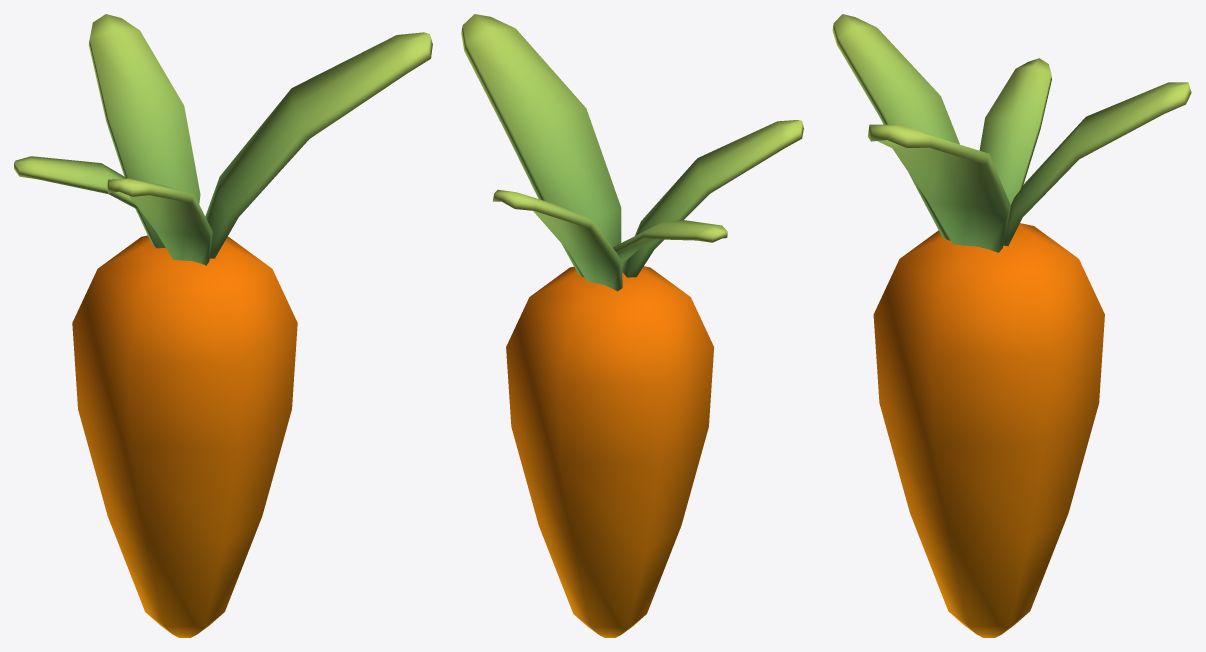
The model's file is carrot.fbx.
3 renders of one model, left to right at view 1: azimuth 30°, elevation 25°; view 2: azimuth 150°, elevation 25°; view 3: azimuth 270°, elevation 25°, orthographic. The views are drawn at different scales.
Parts seen in each view (by area): view 1: carrot; view 2: carrot; view 3: carrot.
Part boxes in pixels (x1=…): carrot: x1=14, y1=14, x2=432, y2=637; carrot: x1=461, y1=14, x2=803, y2=637; carrot: x1=832, y1=14, x2=1191, y2=637.
Bounding box in the file's own units: 0.4935 × 0.7962 × 0.4293.
Materials: 1 (1 with a texture image).
